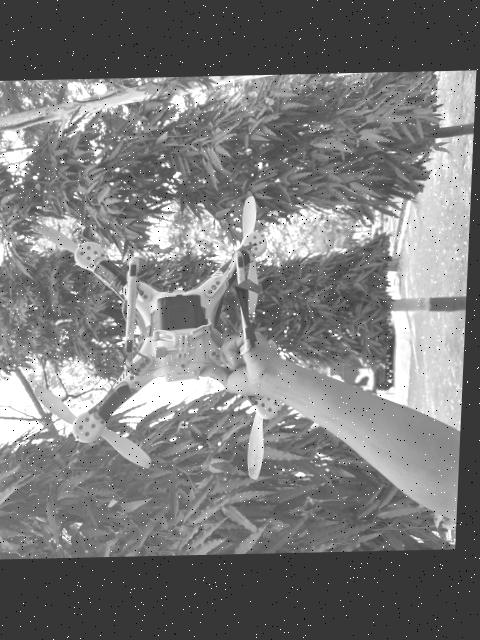drone: (4, 166, 306, 513)
